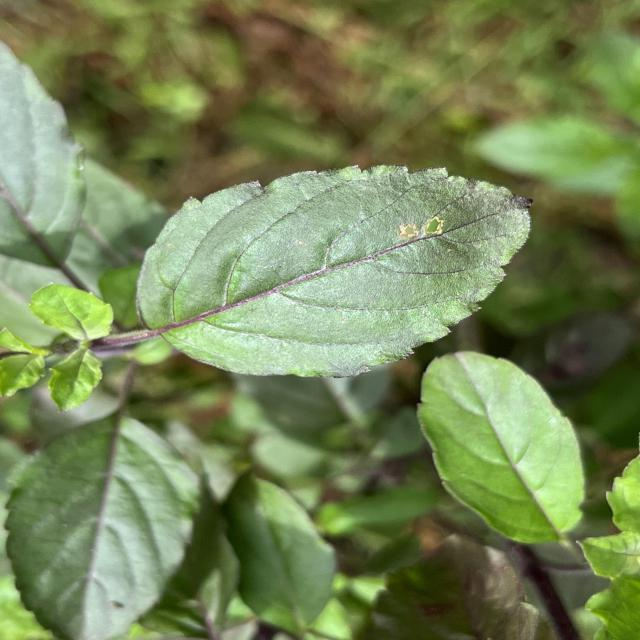Ocimum tenuiflorum: (132, 162, 536, 382)
